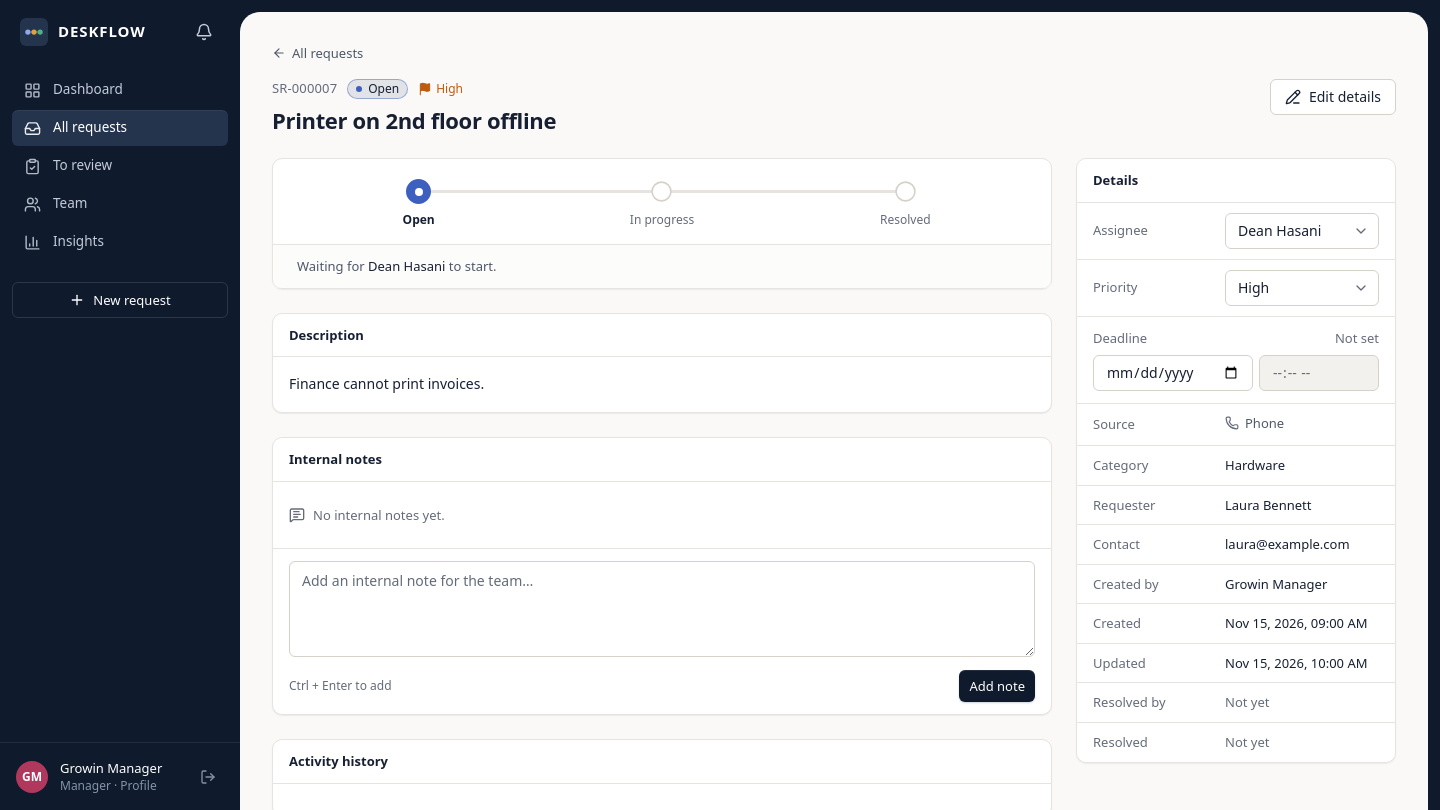
Test: explicit save for the manager › puts the saved values back on Discard
Step 1. Select "Low" in the dropdown named "Priority" → {"x": 1302, "y": 288}, box [1225, 270, 1379, 306]
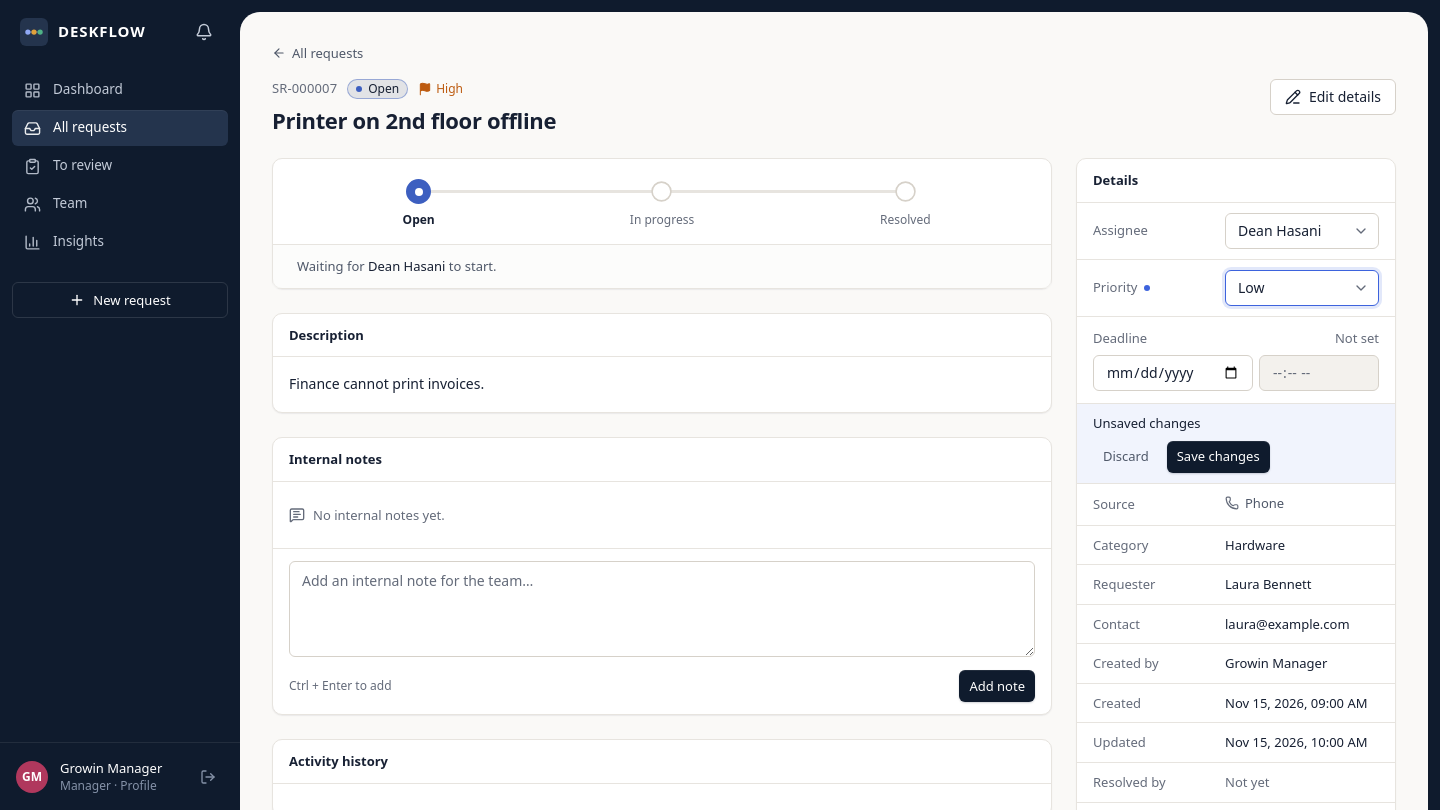
Step 2. Click the button "Discard" → {"x": 1126, "y": 457}, box [1093, 441, 1159, 473]
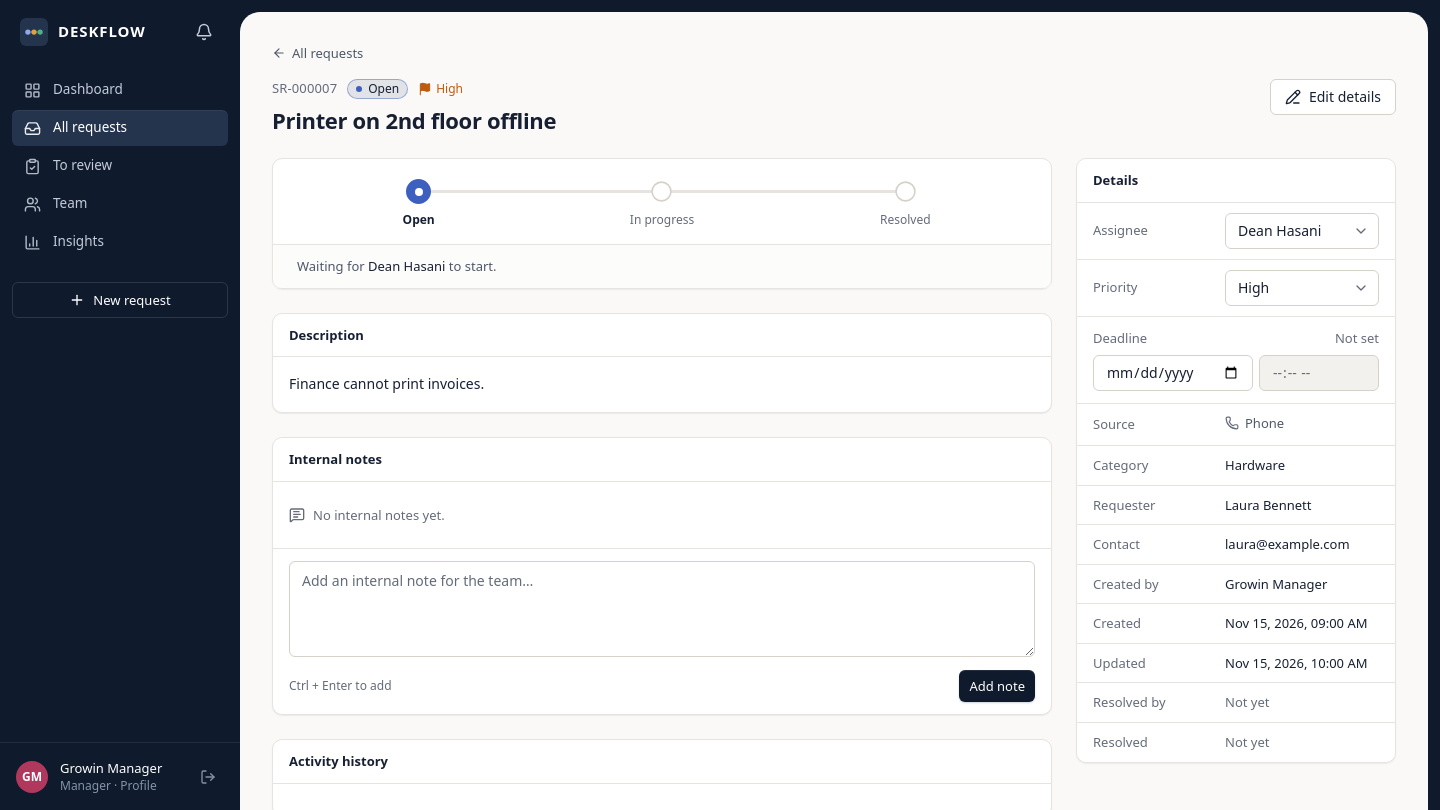
Expected: the text "Unsaved changes" is gone
